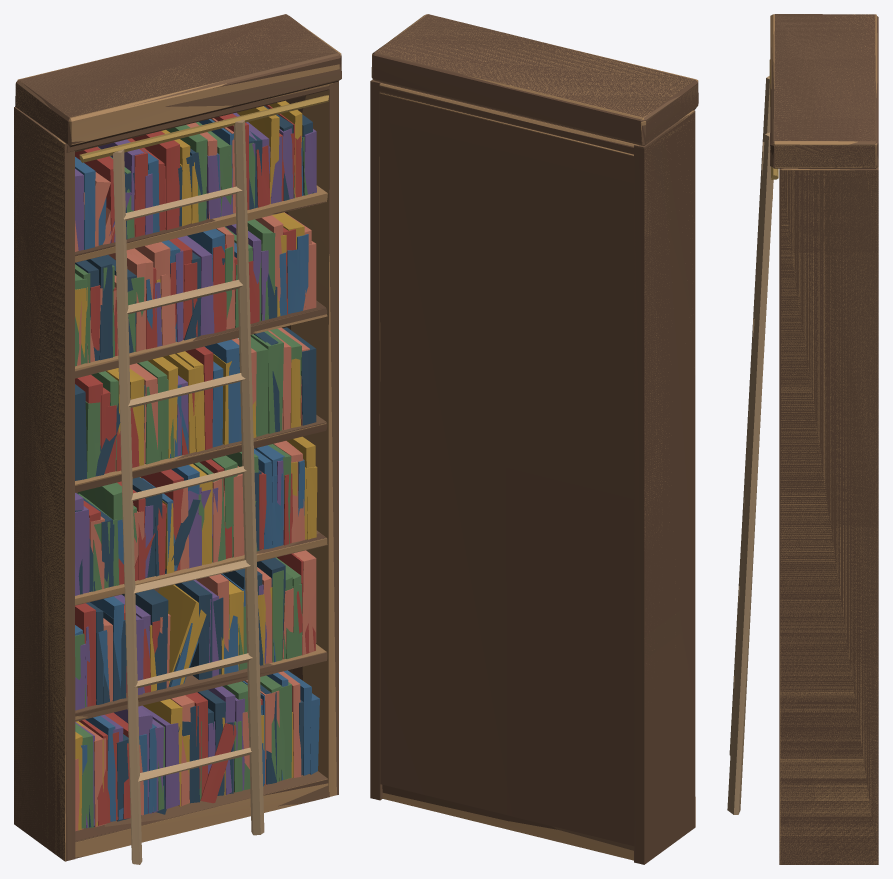
File: library.shelf.glb
3 views of the same model, side by side, from view 1: azimuth 30°, elevation 25°; view 2: azimuth 150°, elevation 25°; view 3: azimuth 270°, elevation 25° (orthographic). The views are drawn at different scales.
Visible parts, largest first — view 1: library.shelf.v2.mesh, library.shelf.v0.mesh, library.shelf.v1.mesh; view 2: library.shelf.v0.mesh, library.shelf.v1.mesh, library.shelf.v2.mesh; view 3: library.shelf.v0.mesh, library.shelf.v2.mesh, library.shelf.v1.mesh.
Part boxes in pixels (bbox=[...]): library.shelf.v2.mesh: bbox=[14, 18, 341, 864]; library.shelf.v0.mesh: bbox=[14, 14, 341, 861]; library.shelf.v1.mesh: bbox=[14, 14, 341, 860]; library.shelf.v0.mesh: bbox=[370, 14, 698, 864]; library.shelf.v1.mesh: bbox=[370, 14, 697, 862]; library.shelf.v2.mesh: bbox=[371, 14, 698, 860]; library.shelf.v0.mesh: bbox=[770, 14, 878, 864]; library.shelf.v2.mesh: bbox=[727, 14, 878, 864]; library.shelf.v1.mesh: bbox=[770, 14, 878, 864].
Size of the model in its own units: 0.9999 by 2.6 by 0.4931.
